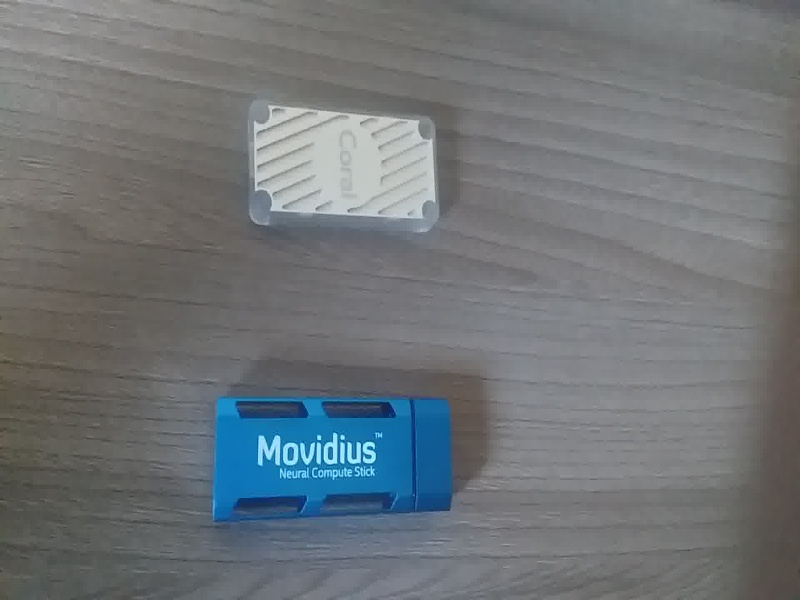coral: (230, 95, 460, 251)
movidius: (202, 388, 462, 523)
